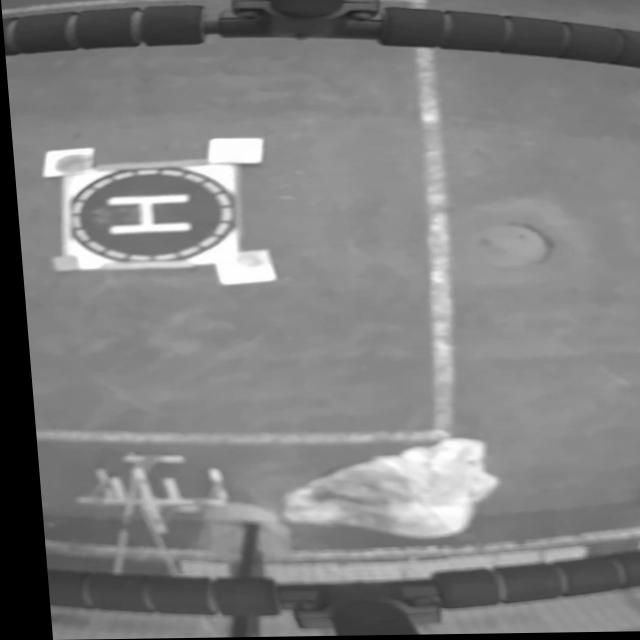Helipad: (102, 195, 189, 236)
